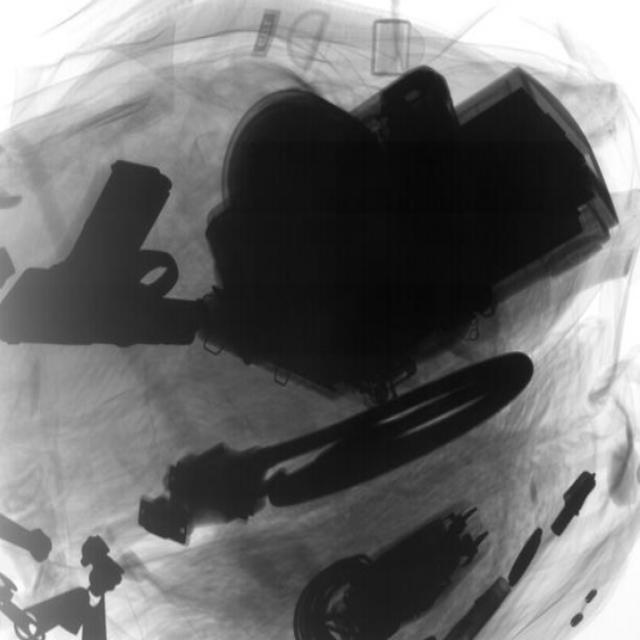GUN: (2, 160, 209, 358)
